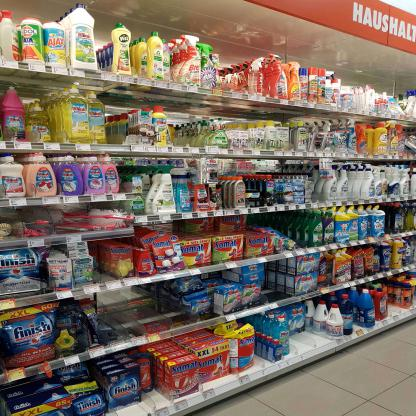Void: (104, 289, 174, 328), (265, 262, 288, 298), (291, 334, 324, 348), (149, 393, 170, 407)
